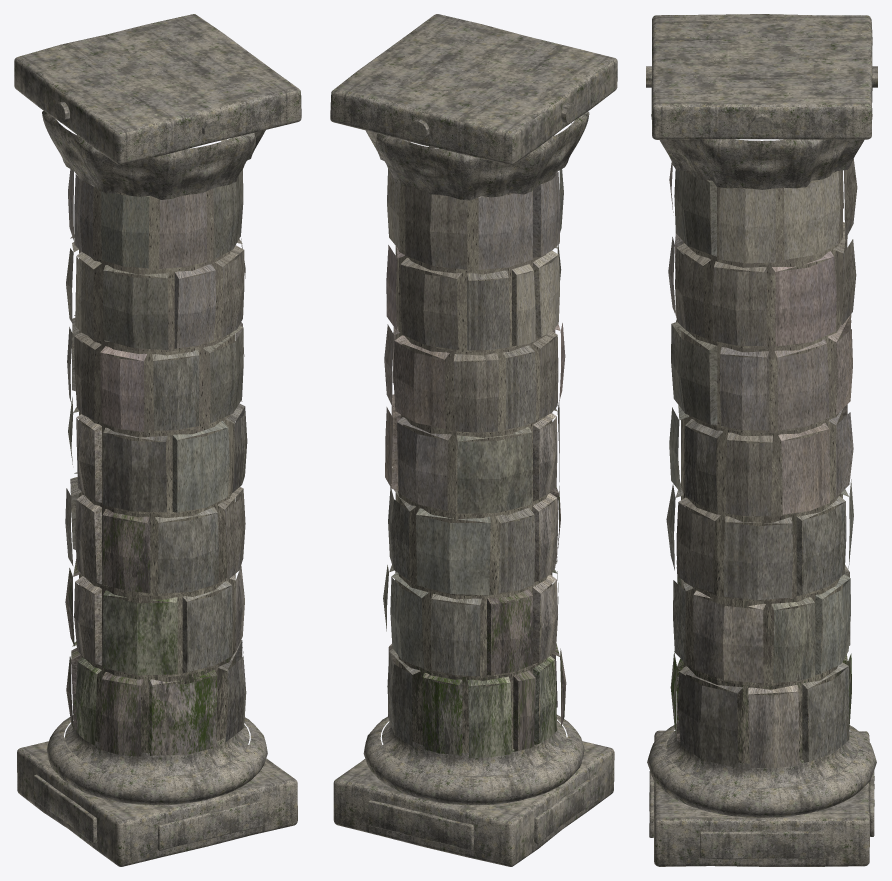
Rendered from pillar_decorated.glb.
The picture shows the model from 3 angles, left to right: view 1: azimuth 30°, elevation 25°; view 2: azimuth 150°, elevation 25°; view 3: azimuth 270°, elevation 25°; orthographic projection. The views are drawn at different scales.
Visible parts, largest first — view 1: pillar_decorated; view 2: pillar_decorated; view 3: pillar_decorated.
Part boxes in pixels (x1,y1,x2,y2): pillar_decorated: (14, 14, 301, 866); pillar_decorated: (330, 14, 617, 866); pillar_decorated: (646, 14, 877, 866).
Size of the model in its own units: 0.97 by 3.52 by 0.97.
Materials: 3 (3 with a texture image).
